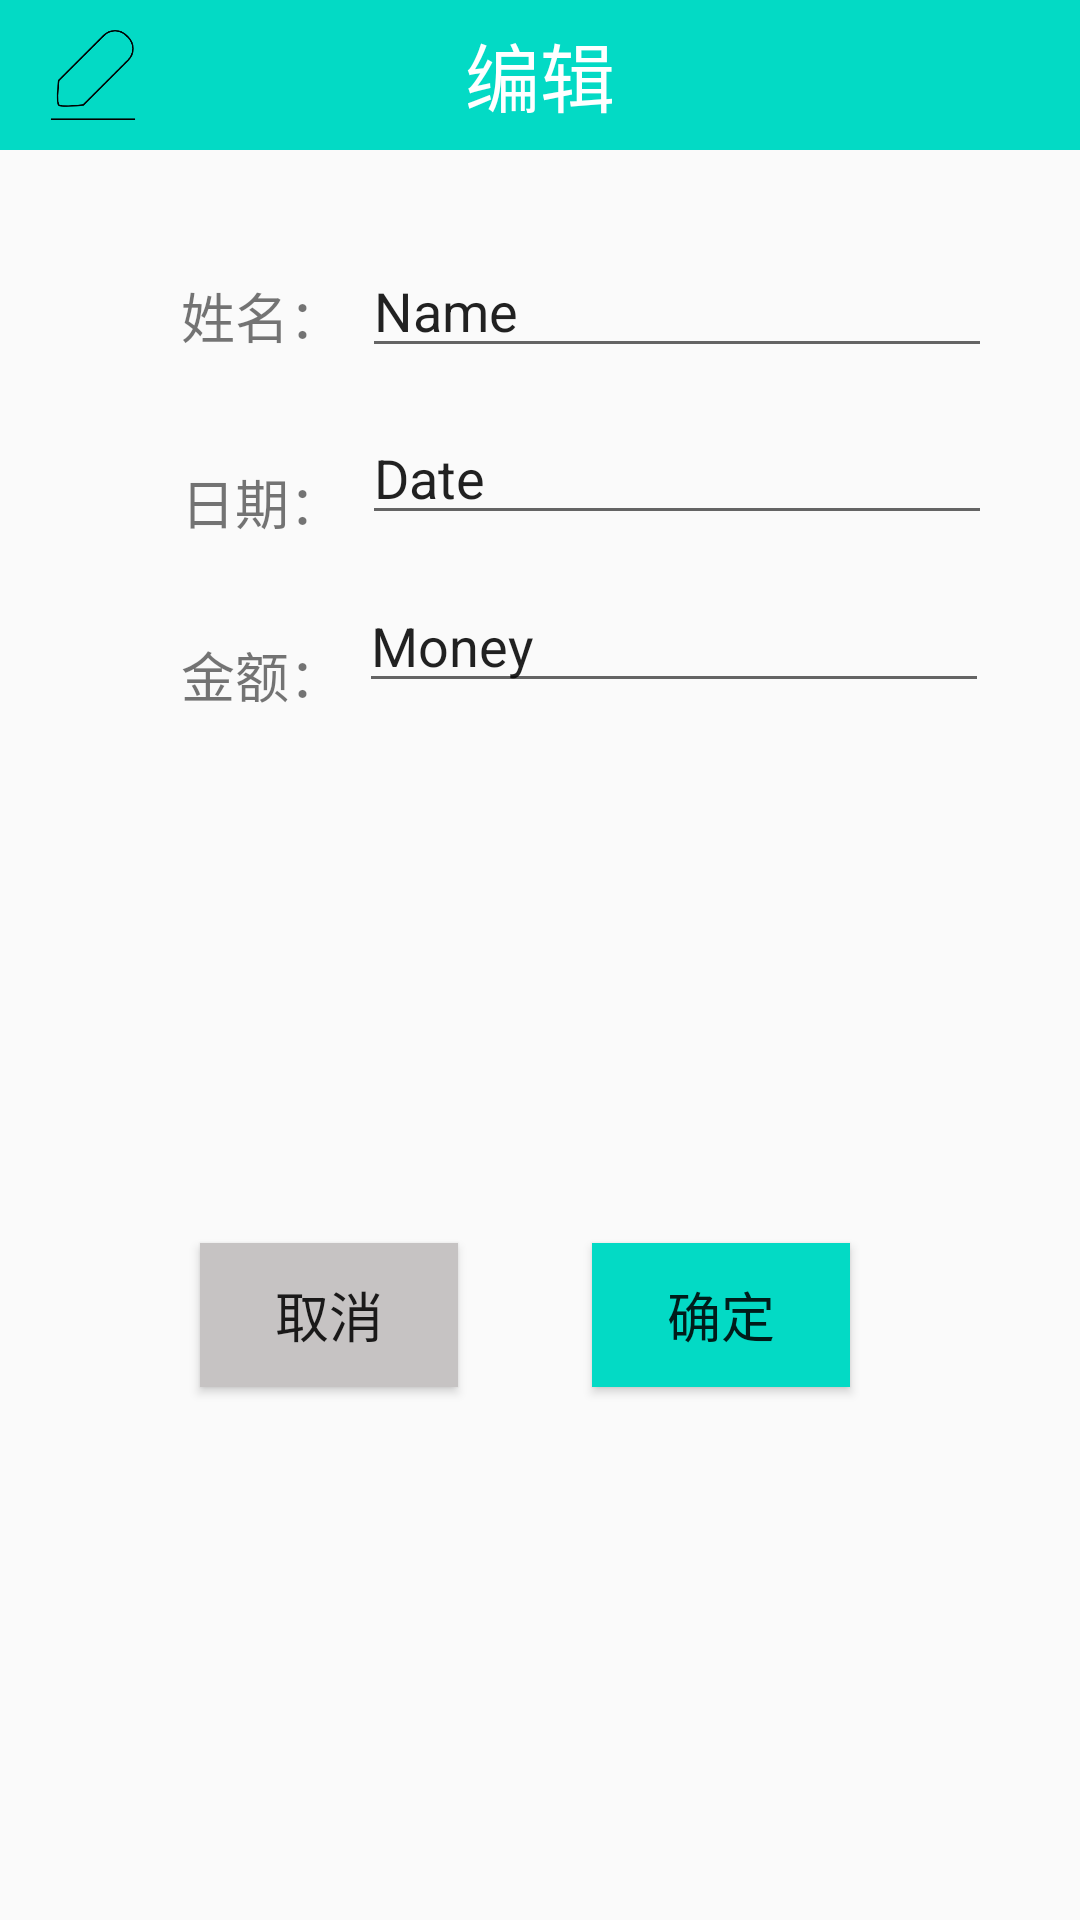

Named icons in this screenshot (1080px x 1920px) and their centers, (x,y):
iconedit: (93,75)
